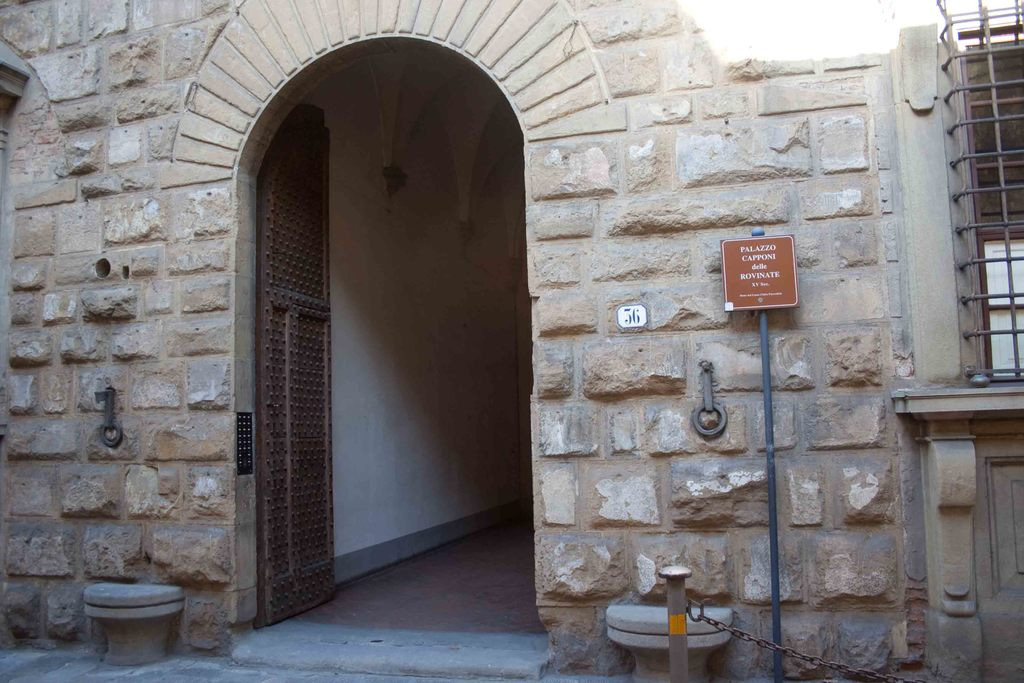door: (270, 155, 338, 603)
